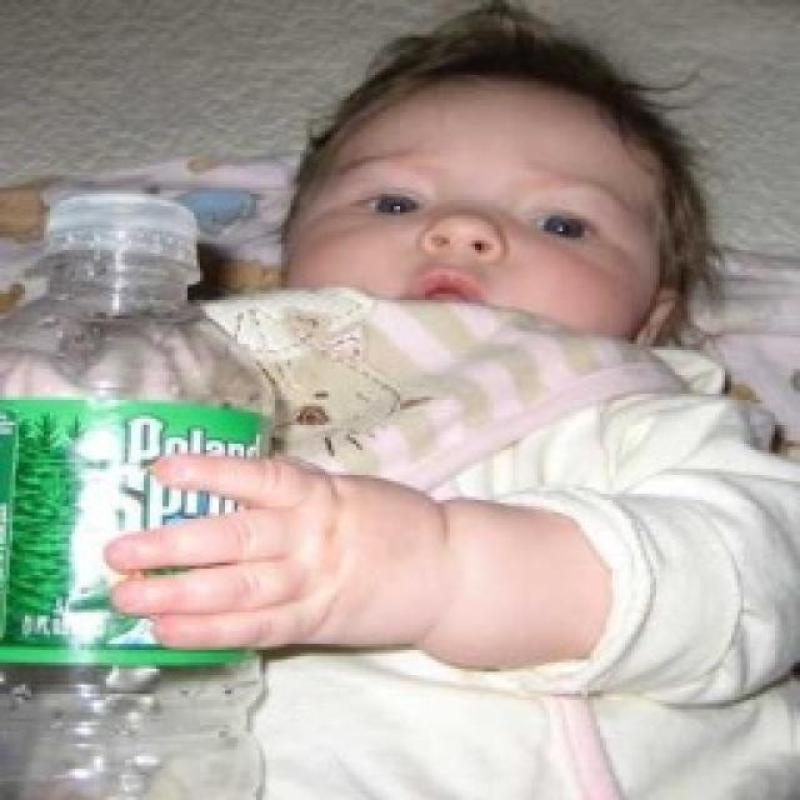botella: (0, 192, 275, 798)
